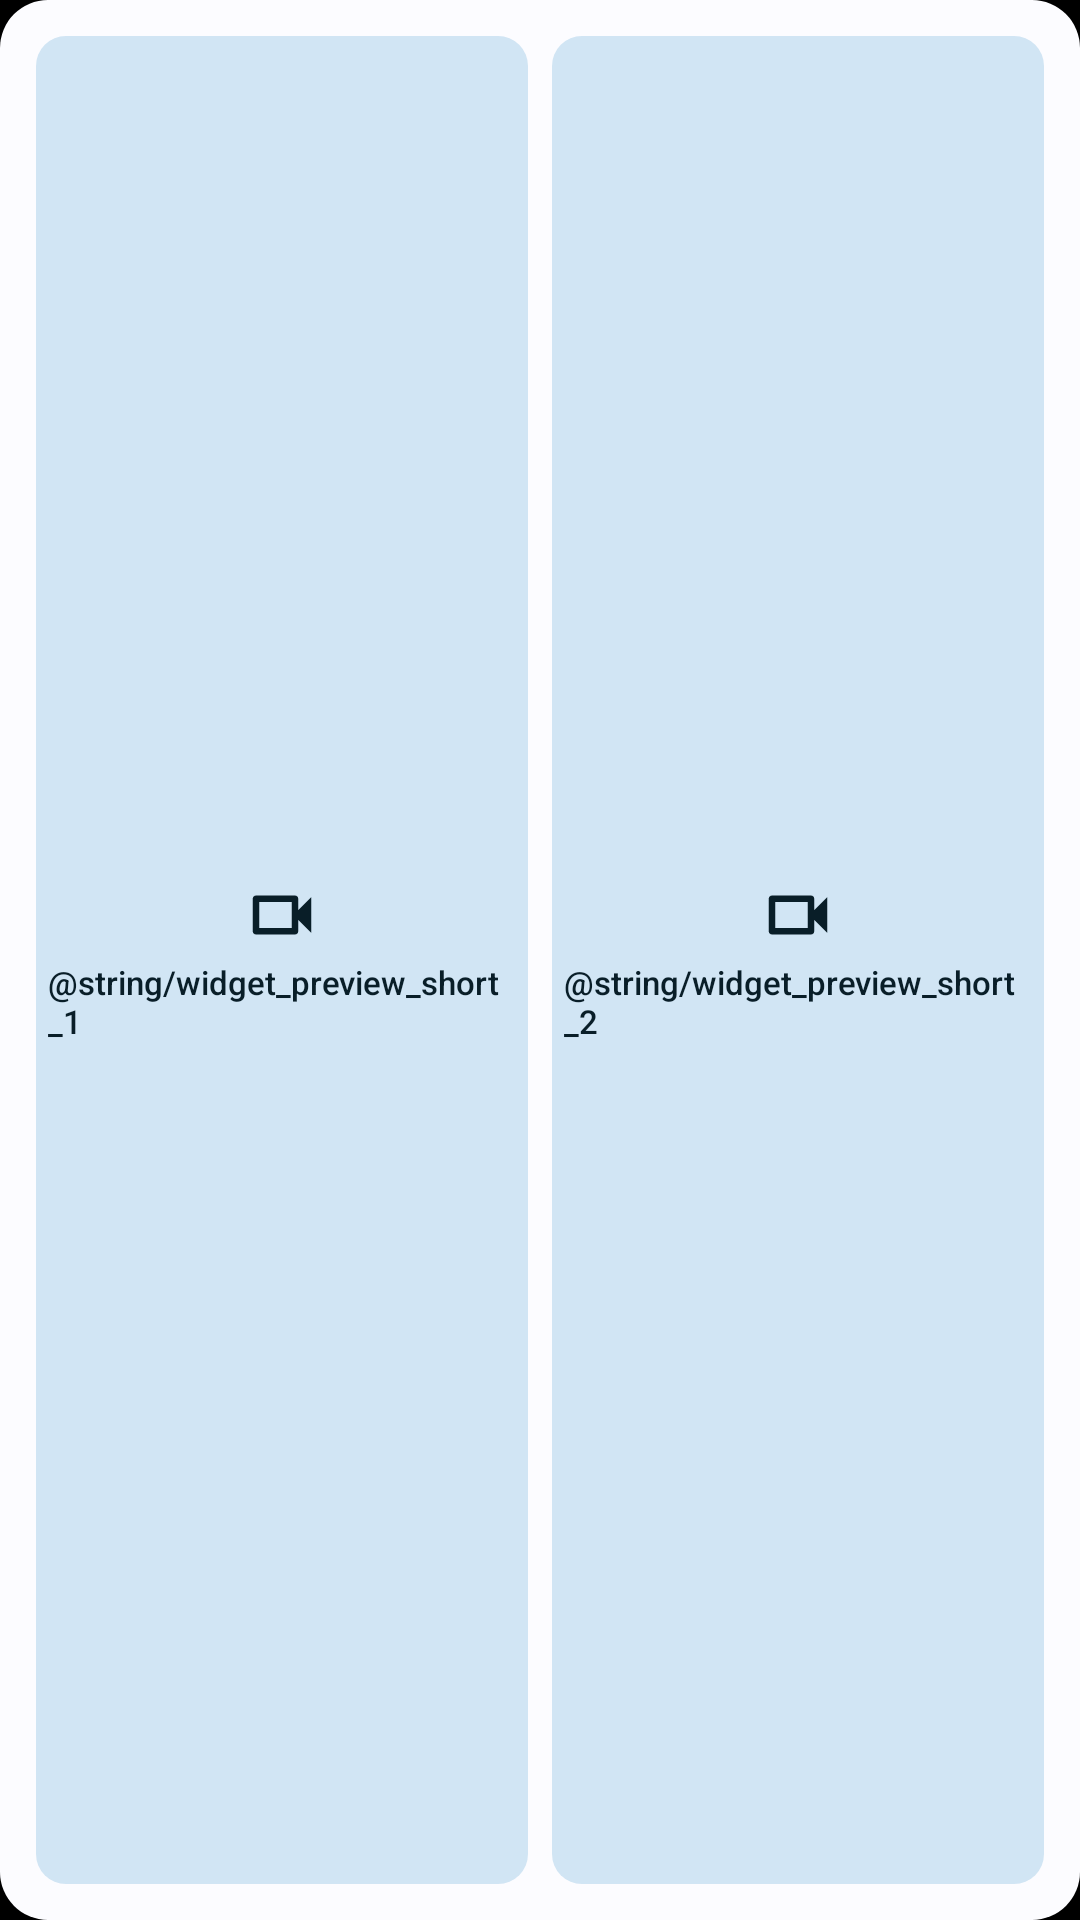

Where to tap for icons on this 1080w x 1920h app screen, as (x,y):
widget camera: (282,915), (798,915)
